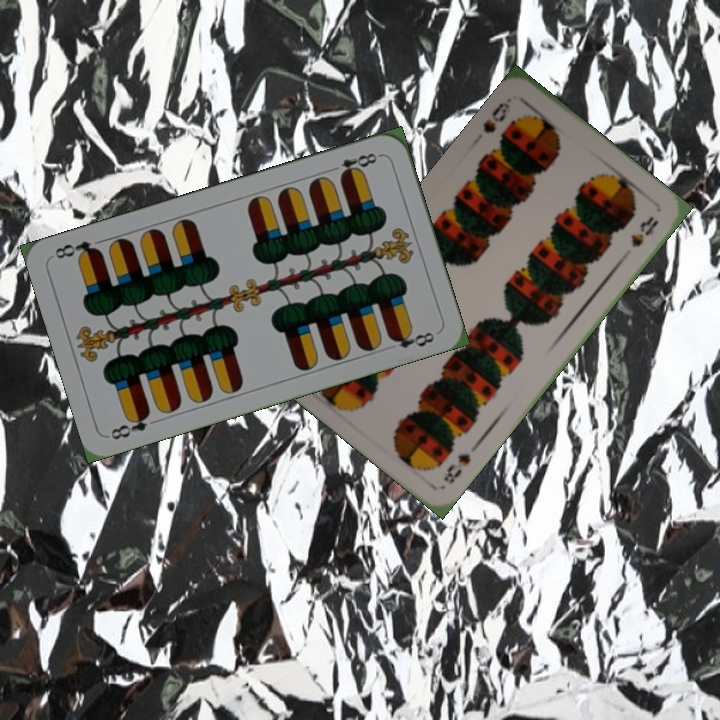E8: (326, 149, 384, 181), (106, 407, 153, 443)
S8: (478, 93, 514, 136), (439, 449, 474, 488)
